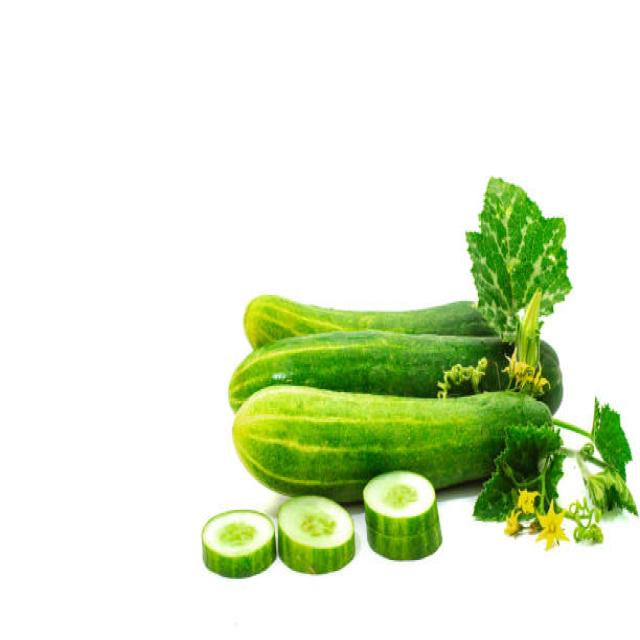cucumber: (231, 383, 551, 504), (229, 326, 563, 418), (243, 293, 520, 352)
